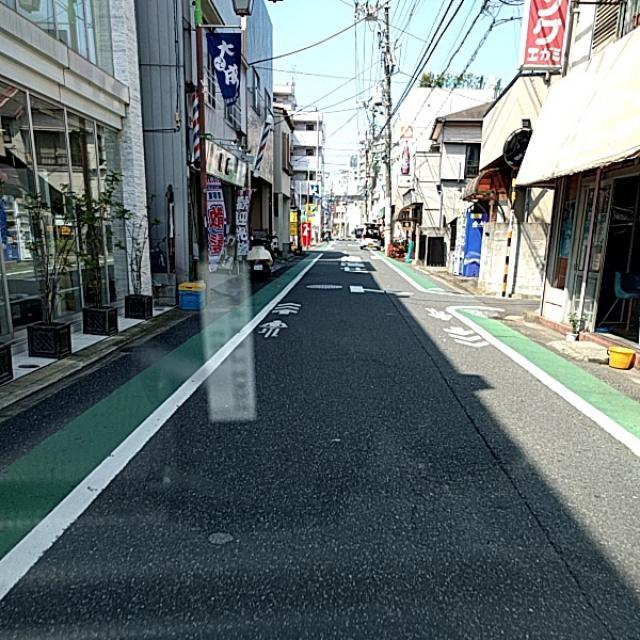pothole: (200, 502, 264, 550)
